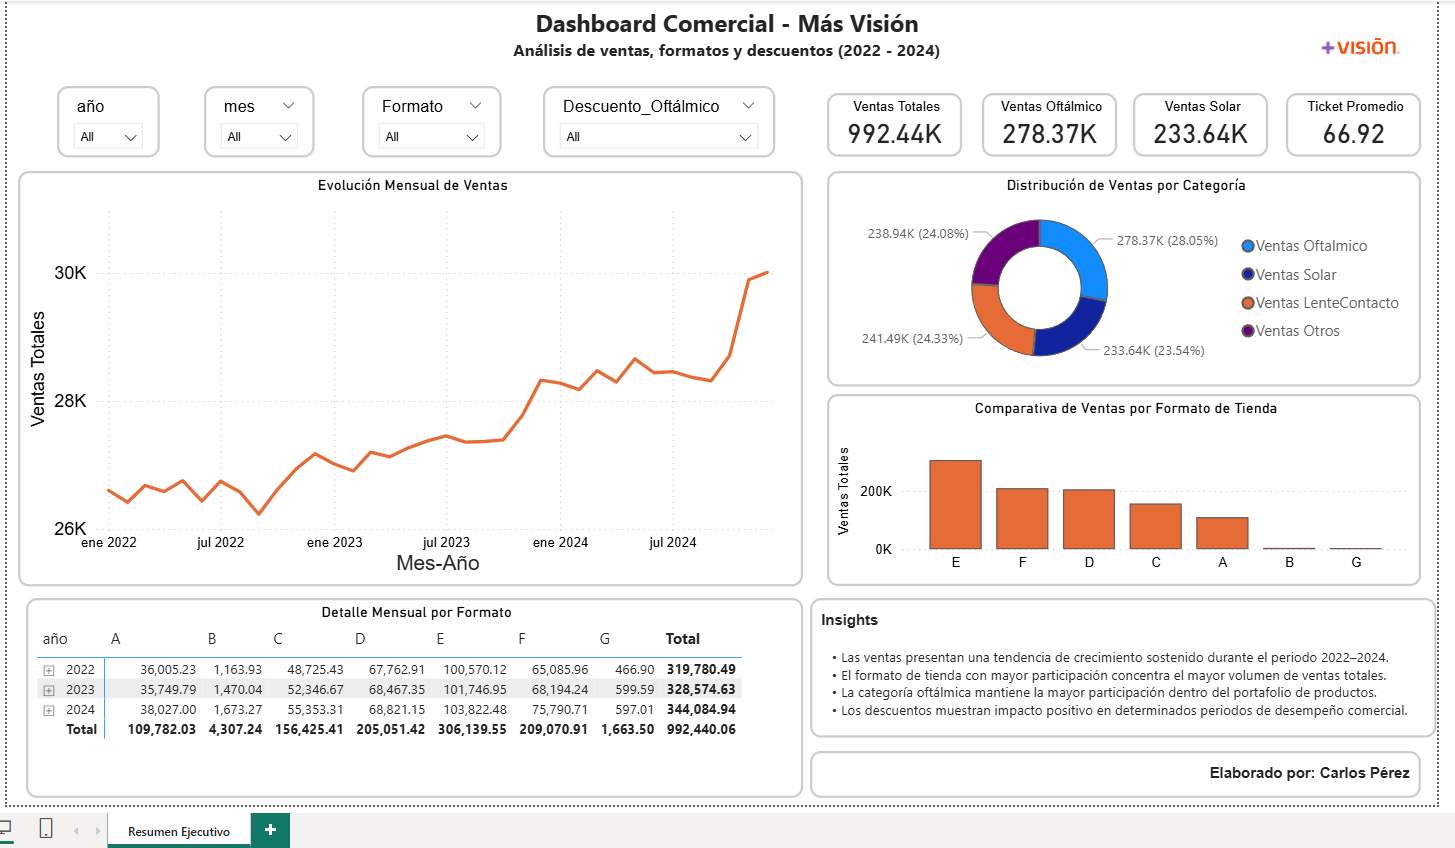

What the dashboard file says about the page in this screenshot:
{"tool":"powerbi","page":{"name":"Resumen Ejecutivo","canvas":[1280,720],"ordinal":0},"visuals":[{"type":"textbox","box":[9.9,0,1269.9,64.5],"z":0},{"type":"slicer","fields":{"Values":["Ventas_MasVision.año"]},"box":[44.8,76.1,92.2,63.6],"z":1000},{"type":"slicer","fields":{"Values":["Ventas_MasVision.mes"]},"box":[176.4,76.1,99.4,63.6],"z":2000},{"type":"slicer","fields":{"Values":["Ventas_MasVision.Formato"]},"box":[317.9,76.1,125.4,63.6],"z":3000},{"type":"slicer","fields":{"Values":["Ventas_MasVision.Descuento_Oftálmico"]},"box":[480,76.1,207.8,63.6],"z":4000},{"type":"card","title":"Ventas Totales","fields":{"Values":["Ventas_MasVision.Ventas Totales"]},"box":[734.3,82.4,120.9,57.3],"z":5000},{"type":"card","title":"Ticket Promedio","fields":{"Values":["Ventas_MasVision.Promedio Venta"]},"box":[1145.4,82.4,120.9,57.3],"z":6000},{"type":"card","title":"Ventas Oftálmico","fields":{"Values":["Ventas_MasVision.Ventas Oftalmico"]},"box":[873.1,82.4,120.9,57.3],"z":7000},{"type":"card","title":"Ventas Solar","fields":{"Values":["Ventas_MasVision.Ventas Solar"]},"box":[1008.4,82.4,120.9,57.3],"z":8000},{"type":"lineChart","title":"Evolución Mensual de Ventas","fields":{"Y":["Ventas_MasVision.Ventas Totales"],"Category":["Ventas_MasVision.fecha.Variation.Date Hierarchy.Year","Ventas_MasVision.fecha.Variation.Date Hierarchy.Month"]},"box":[9.9,152.2,703,371.6],"z":9000},{"type":"clusteredColumnChart","title":"Comparativa de Ventas por Formato de Tienda","fields":{"Category":["Ventas_MasVision.Formato"],"Y":["Ventas_MasVision.Ventas Totales"]},"box":[734.3,351.9,531.9,171.9],"z":10000},{"type":"donutChart","title":"Distribución de Ventas por Categoría","fields":{"Y":["Ventas_MasVision.Ventas Oftalmico","Ventas_MasVision.Ventas Solar","Ventas_MasVision.Ventas LenteContacto","Ventas_MasVision.Ventas Otros"]},"box":[734.3,152.2,531.9,193.4],"z":11000},{"type":"pivotTable","title":"Detalle Mensual por Formato","fields":{"Rows":["Ventas_MasVision.año","Ventas_MasVision.mes"],"Columns":["Ventas_MasVision.Formato"],"Values":["Ventas_MasVision.Ventas Totales"]},"box":[17,534.6,695.8,179.1],"z":12000},{"type":"textbox","box":[719.1,534.6,560.6,125.4],"z":13000},{"type":"textbox","box":[719.1,671.6,547.2,42.1],"z":14000},{"type":"image","box":[1145.4,0,134.3,82.4],"z":15000}]}

Visuals, with their boxes on the page's 1280x720 design canvas (x1, y1, x2, y2). These are canvas units, not pixel positions in the 1455x848 screenshot, which may show the page scaled, cropped or inside an application window:
textbox: (x1=10, y1=0, x2=1280, y2=64)
slicer - Ventas_MasVision.año: (x1=45, y1=76, x2=137, y2=140)
slicer - Ventas_MasVision.mes: (x1=176, y1=76, x2=276, y2=140)
slicer - Ventas_MasVision.Formato: (x1=318, y1=76, x2=443, y2=140)
slicer - Ventas_MasVision.Descuento_Oftálmico: (x1=480, y1=76, x2=688, y2=140)
"Ventas Totales" card: (x1=734, y1=82, x2=855, y2=140)
"Ticket Promedio" card: (x1=1145, y1=82, x2=1266, y2=140)
"Ventas Oftálmico" card: (x1=873, y1=82, x2=994, y2=140)
"Ventas Solar" card: (x1=1008, y1=82, x2=1129, y2=140)
"Evolución Mensual de Ventas" lineChart: (x1=10, y1=152, x2=713, y2=524)
"Comparativa de Ventas por Formato de Tienda" clusteredColumnChart: (x1=734, y1=352, x2=1266, y2=524)
"Distribución de Ventas por Categoría" donutChart: (x1=734, y1=152, x2=1266, y2=346)
"Detalle Mensual por Formato" pivotTable: (x1=17, y1=535, x2=713, y2=714)
textbox: (x1=719, y1=535, x2=1280, y2=660)
textbox: (x1=719, y1=672, x2=1266, y2=714)
image: (x1=1145, y1=0, x2=1280, y2=82)
